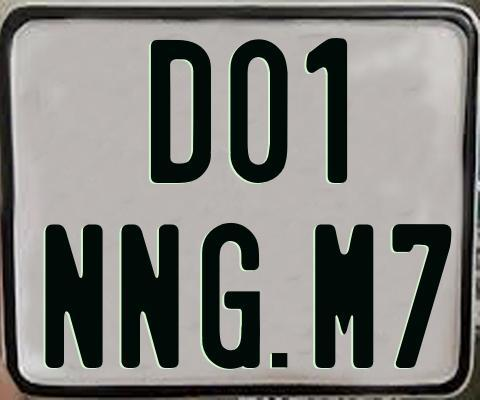0: (229, 39, 293, 184)
1: (305, 38, 347, 189)
7: (390, 223, 456, 372)
D: (150, 38, 214, 181)
G: (201, 220, 263, 370)
M: (312, 223, 372, 371)
N: (120, 223, 184, 373), (44, 222, 106, 367)
